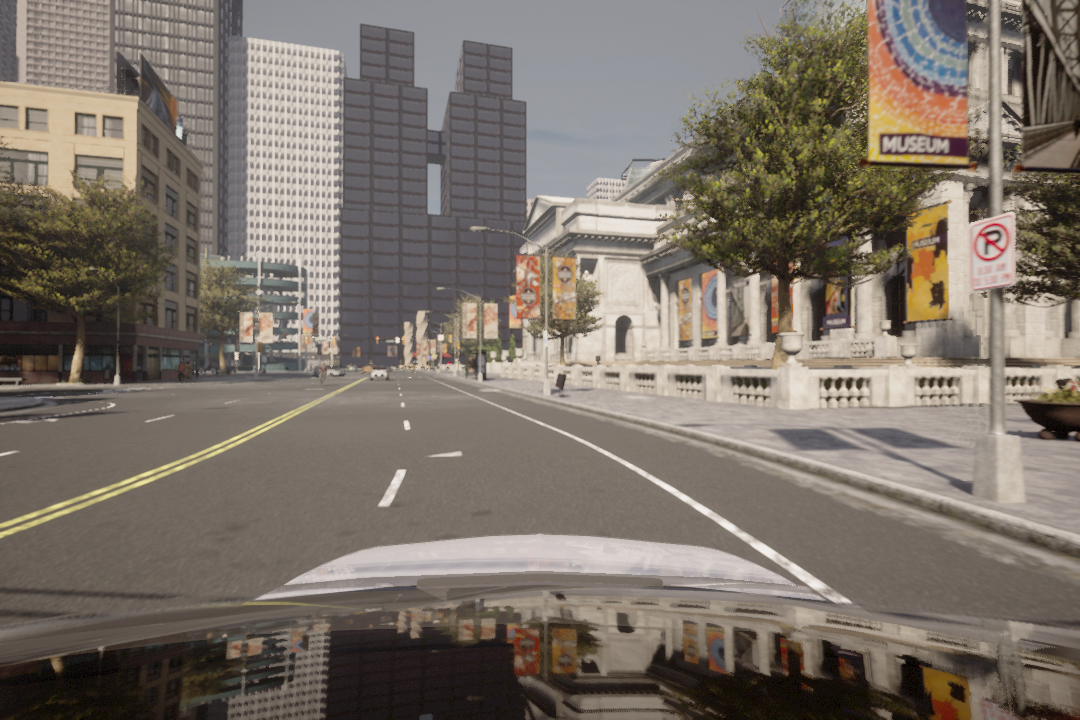TrafficSign_nstop: (965, 216, 1017, 286)
